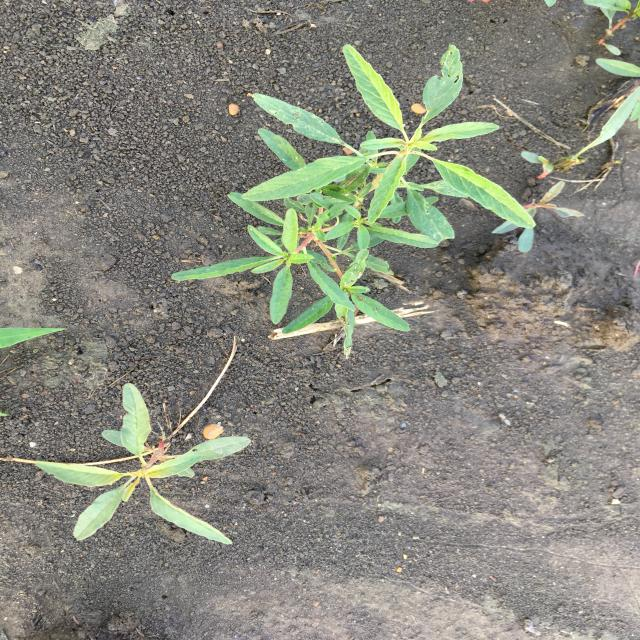Waterhemp: (170, 42, 538, 356), (29, 380, 254, 548), (493, 178, 589, 254)
